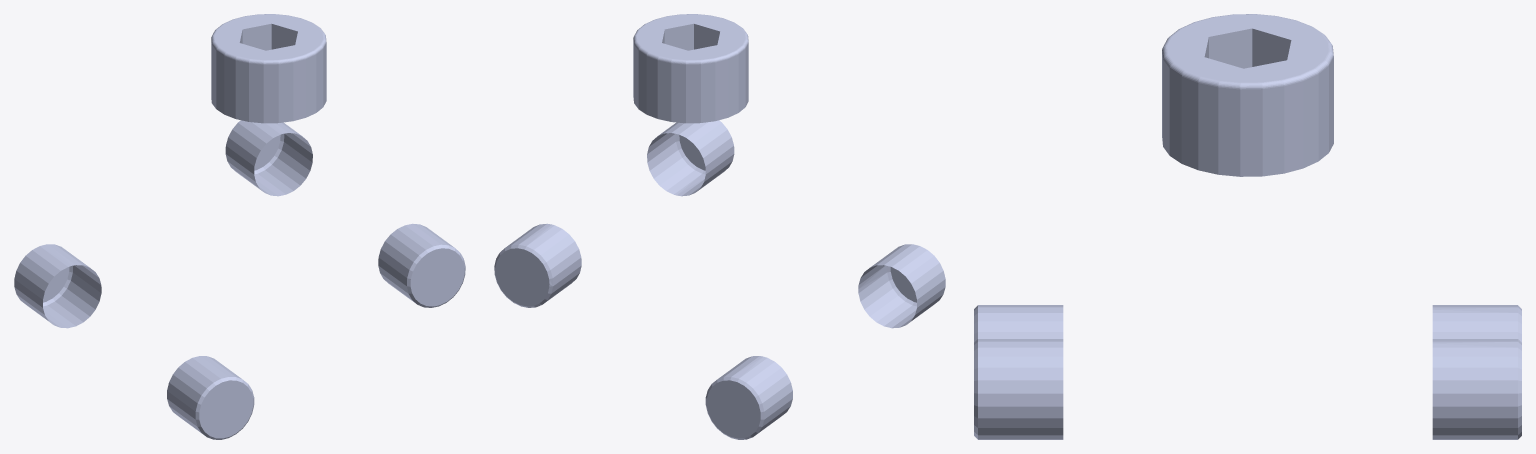
The model's file is right_inner_finger_Defeatured_2F_85_PAD_OPEN_finger4step_01_Defeatured_2F_85_PAD_OPEN_finger4step_2.obj.
3 renders of one model, left to right at view 1: azimuth 30°, elevation 25°; view 2: azimuth 150°, elevation 25°; view 3: azimuth 270°, elevation 25°, orthographic. The views are drawn at different scales.
Parts seen in each view (by area): view 1: Defeatured_2F_85_PAD_OPEN_finger4step_Periwinkle_Gray; view 2: Defeatured_2F_85_PAD_OPEN_finger4step_Periwinkle_Gray; view 3: Defeatured_2F_85_PAD_OPEN_finger4step_Periwinkle_Gray.
Boxes of the visible parts, x1,y1,x2,y2 form: Defeatured_2F_85_PAD_OPEN_finger4step_Periwinkle_Gray: [14, 14, 465, 439]; Defeatured_2F_85_PAD_OPEN_finger4step_Periwinkle_Gray: [494, 14, 945, 439]; Defeatured_2F_85_PAD_OPEN_finger4step_Periwinkle_Gray: [974, 14, 1521, 439].
Size of the model in its own units: 0.0229 by 0.0245 by 0.027.
